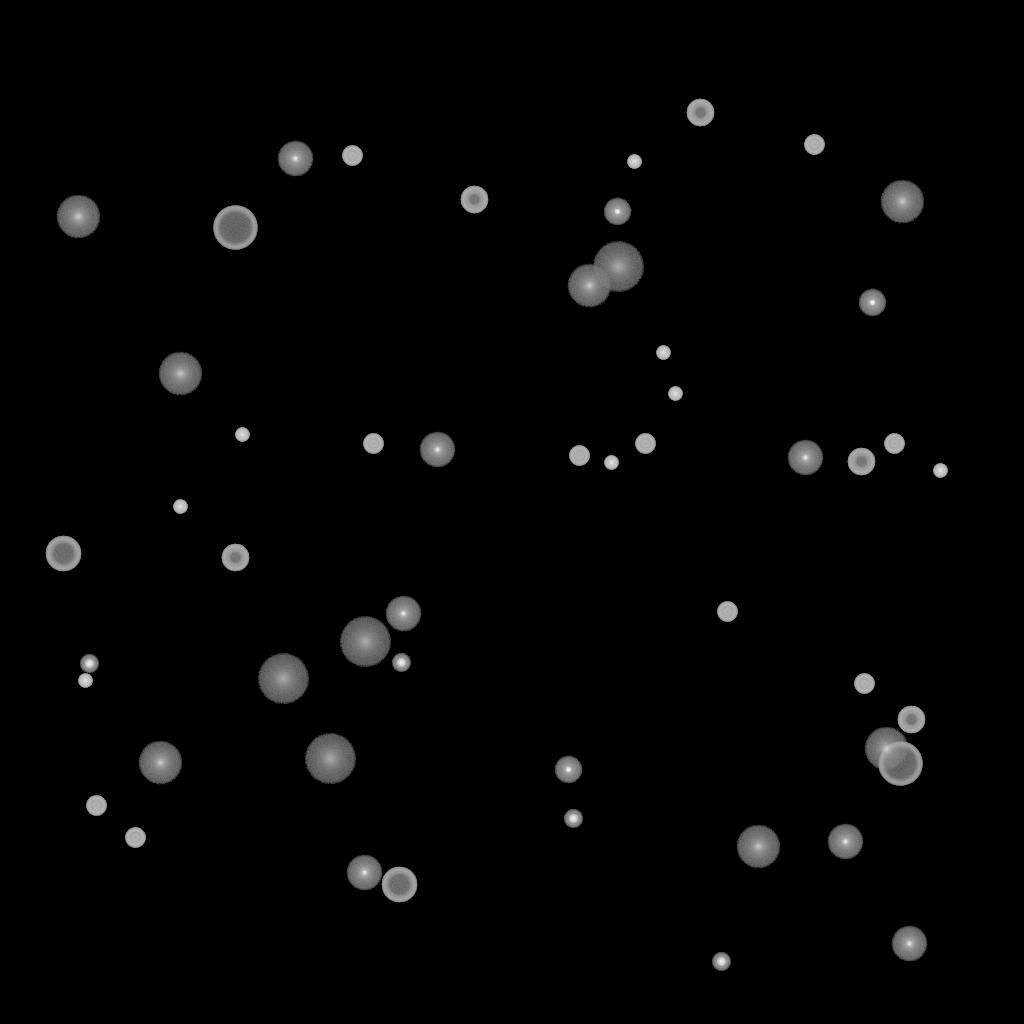depth:-10: (603, 198, 631, 226), (858, 289, 886, 317), (554, 756, 582, 784)
depth:-20: (712, 953, 730, 971), (564, 810, 582, 828), (80, 655, 98, 673), (392, 654, 410, 672)
depth:-30: (656, 346, 670, 360), (235, 428, 249, 442), (933, 464, 947, 478), (78, 674, 92, 688), (627, 155, 641, 169), (668, 387, 682, 401), (604, 456, 618, 470), (173, 500, 187, 514)
depth:-40: (717, 602, 737, 622), (854, 674, 874, 694), (342, 146, 362, 166), (86, 796, 106, 816), (804, 135, 824, 155), (884, 434, 904, 454), (125, 828, 145, 848), (569, 446, 589, 466), (363, 434, 383, 454), (635, 434, 655, 454)
depth:-50: (221, 544, 249, 572), (460, 186, 488, 214), (897, 706, 925, 734), (686, 99, 714, 127), (847, 448, 875, 476)
depth:-60: (45, 536, 81, 572), (381, 867, 417, 903)
depth:-70: (878, 742, 922, 786), (213, 206, 257, 250)
depth:0: (277, 141, 313, 177), (891, 926, 927, 962), (787, 440, 823, 476), (385, 596, 421, 632), (419, 432, 455, 468), (346, 855, 382, 891), (827, 824, 863, 860)
depth:10: (158, 352, 202, 396), (138, 741, 182, 785), (880, 180, 924, 224), (864, 727, 908, 771), (567, 264, 611, 308), (736, 825, 780, 869), (56, 195, 100, 239)
depth:20: (592, 242, 644, 292), (304, 734, 356, 784), (339, 617, 391, 667), (257, 654, 309, 704)
